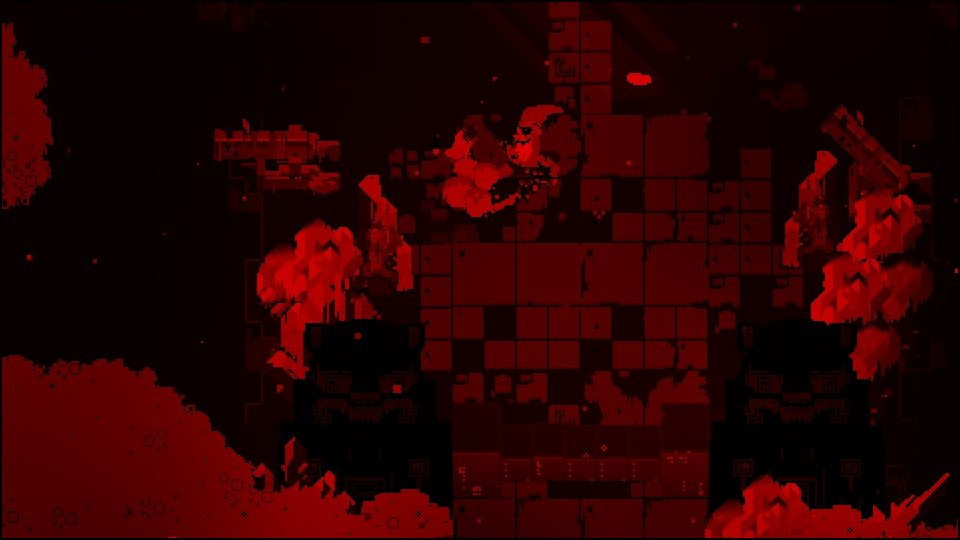hanged_man: (494, 94, 568, 213)
